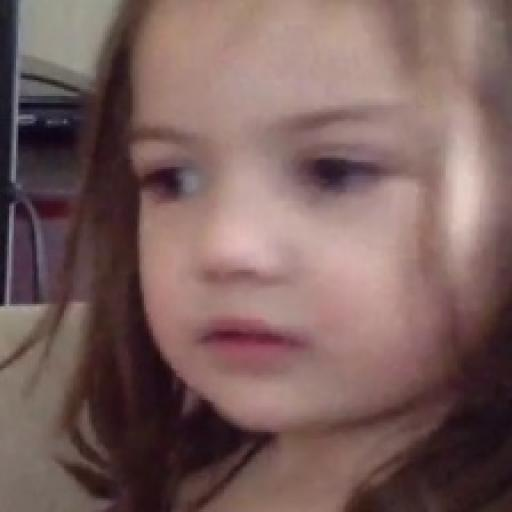Autism: (94, 14, 510, 472)
